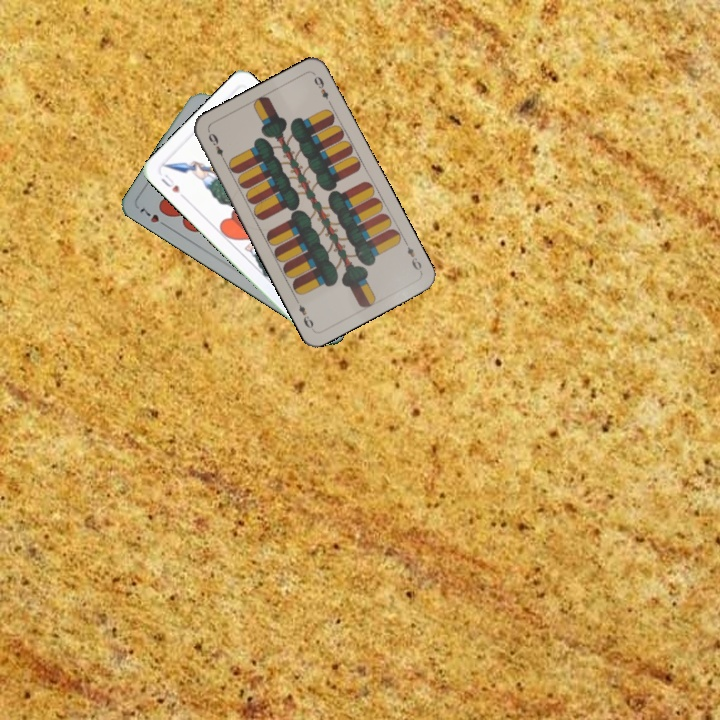E9: (204, 127, 229, 165), (400, 237, 424, 275)
H7: (136, 203, 171, 230)
HU: (157, 170, 182, 196)
